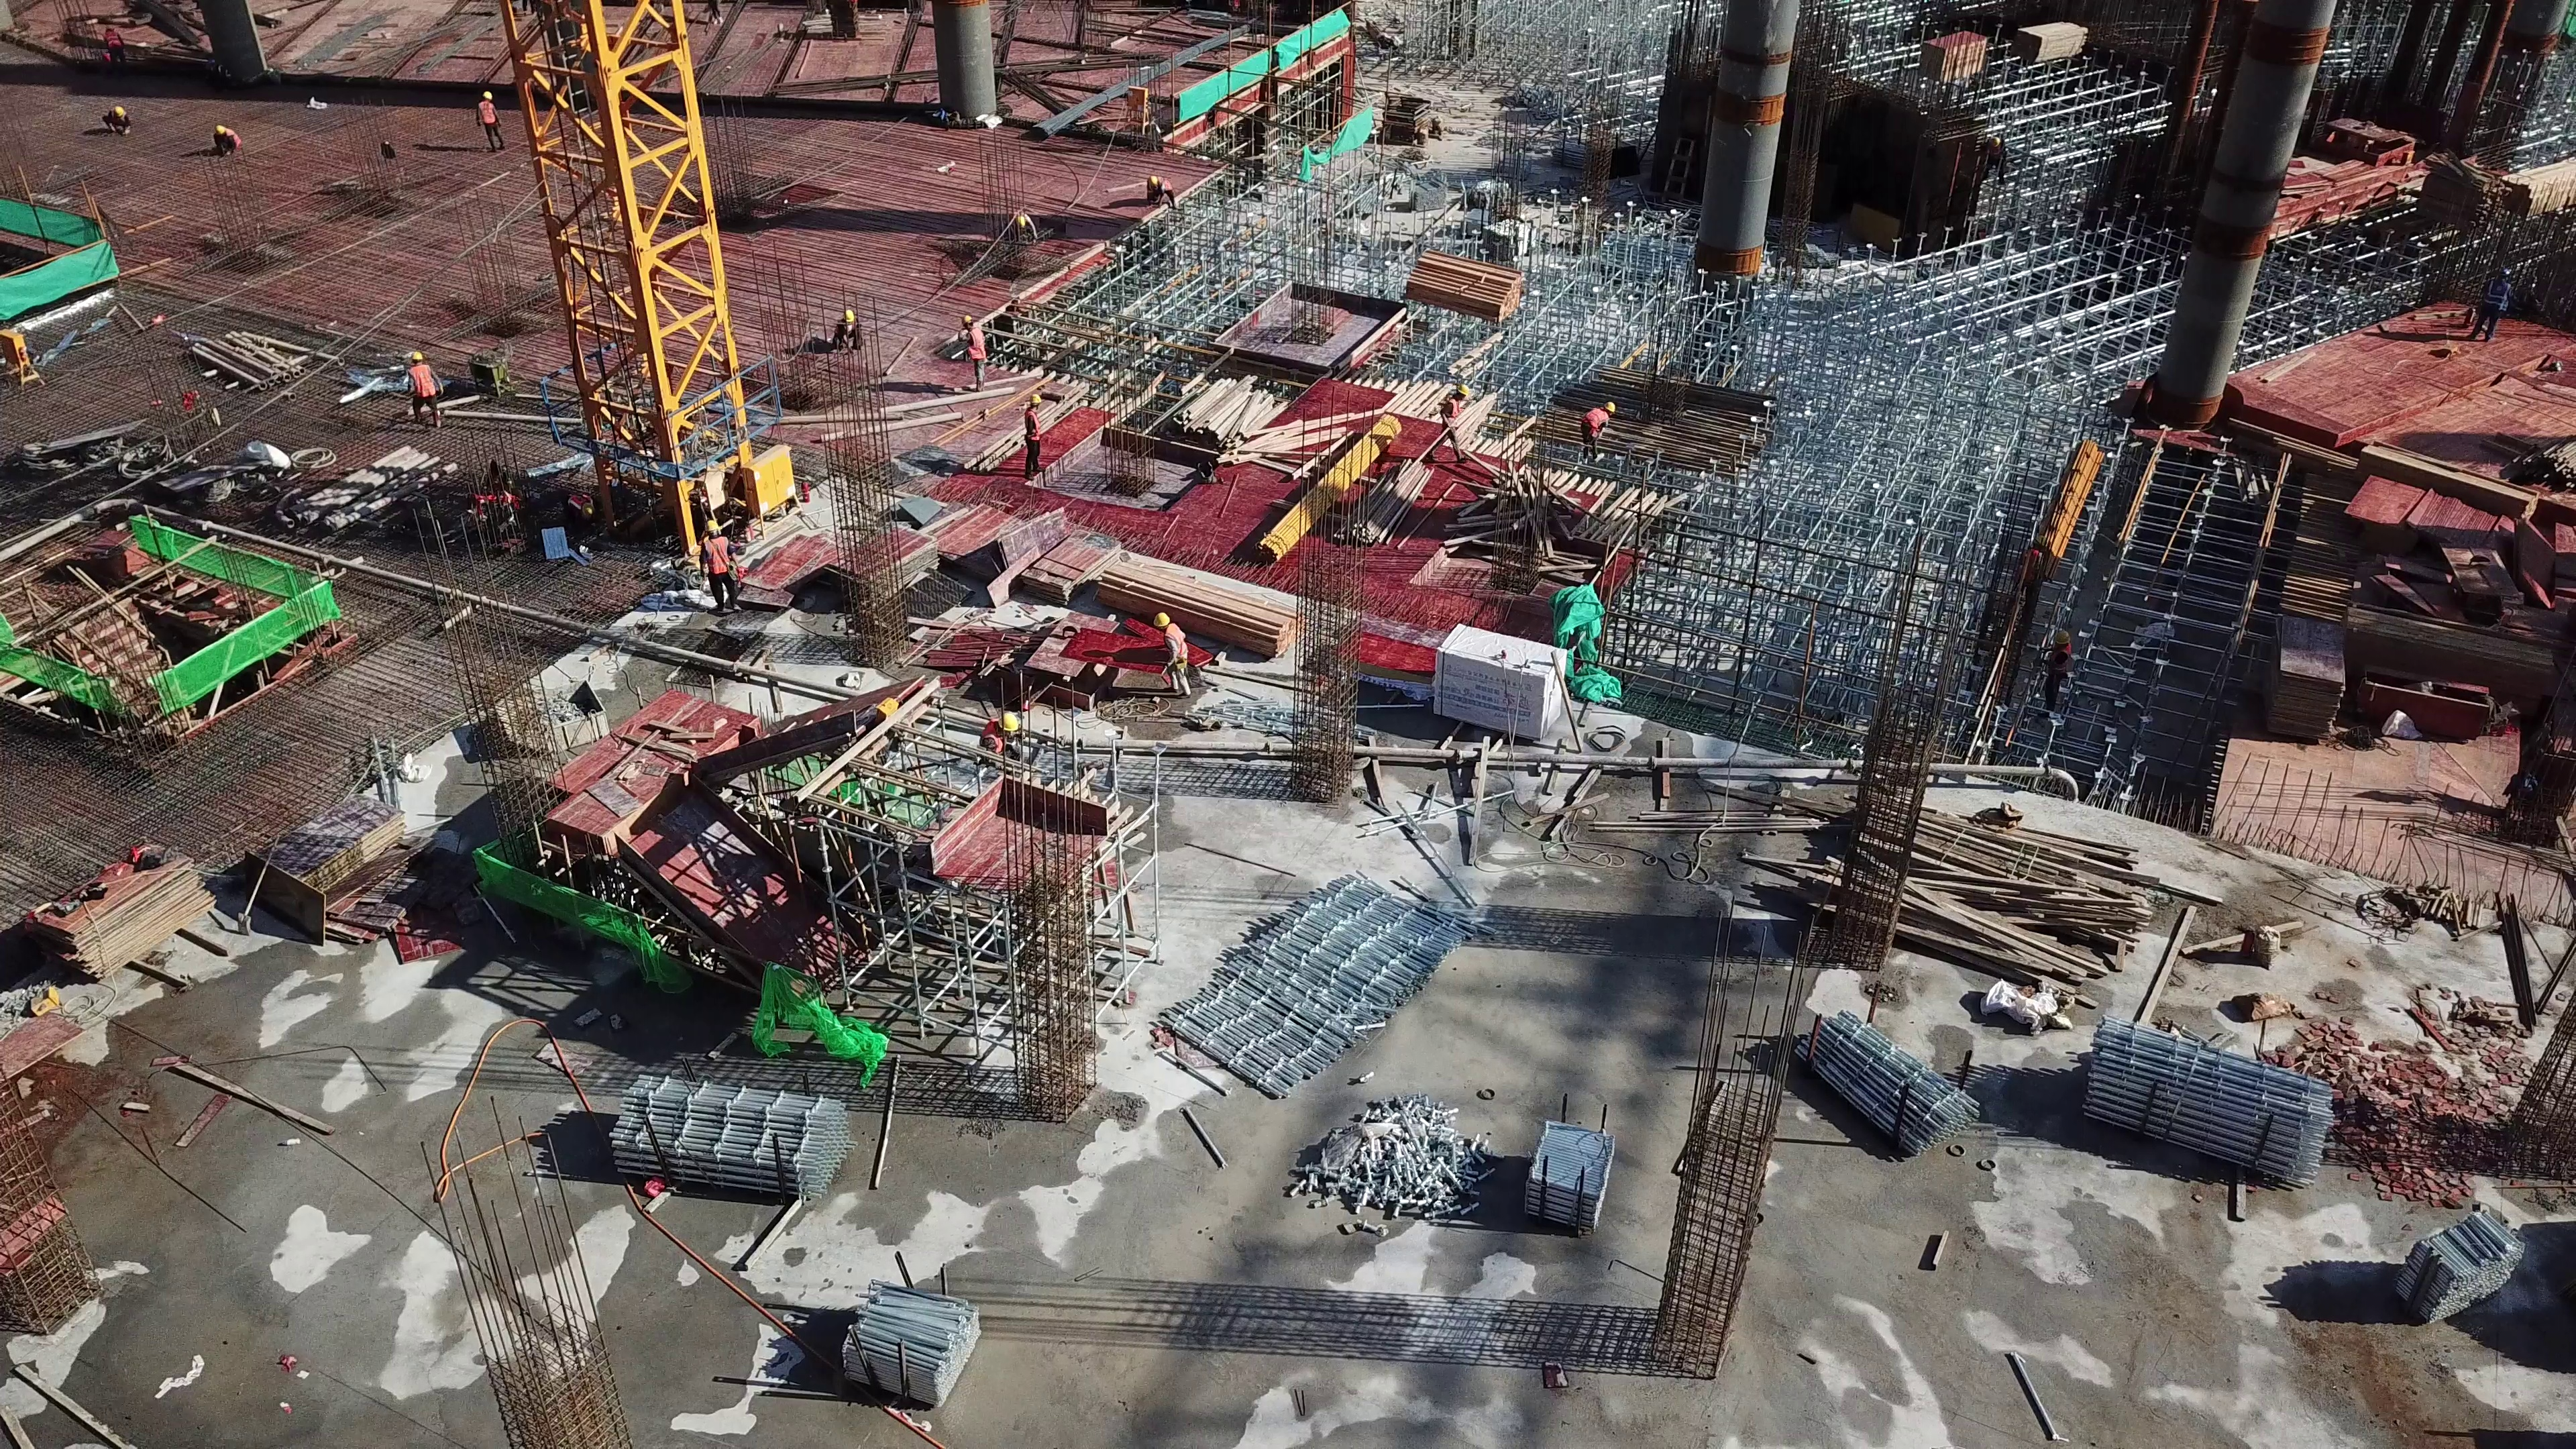board: (248, 794, 414, 957), (26, 847, 207, 987), (2260, 616, 2345, 742), (1915, 25, 1990, 87)
ebox: (743, 443, 816, 515)
person: (1149, 604, 1199, 724), (700, 517, 749, 625), (394, 342, 452, 430), (2475, 250, 2513, 360), (2041, 605, 2082, 704), (1572, 392, 1613, 482), (1432, 377, 1467, 470), (948, 310, 985, 398), (465, 85, 506, 156), (1024, 394, 1053, 488), (2008, 536, 2039, 619), (831, 293, 865, 355), (1138, 169, 1177, 213), (214, 120, 250, 159), (101, 102, 134, 133), (1019, 213, 1040, 254)
scaffold: (1153, 873, 1481, 1093), (1277, 1097, 1639, 1252), (2076, 1022, 2342, 1185), (592, 1065, 846, 1199), (1803, 989, 1972, 1162), (2392, 1204, 2528, 1343), (837, 1279, 991, 1401)
wood: (1756, 803, 2158, 998), (1143, 368, 1371, 482), (1099, 543, 1295, 666), (2345, 445, 2549, 523), (1391, 254, 1527, 327), (186, 327, 320, 394), (2498, 154, 2576, 216), (2010, 15, 2095, 66)
